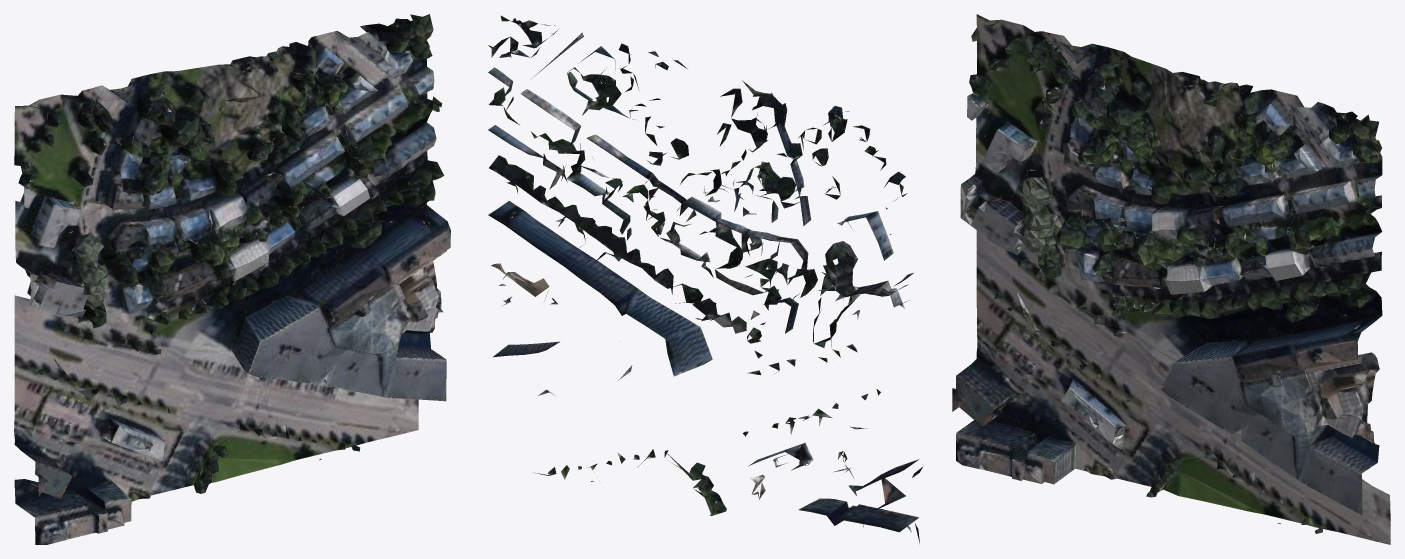
Rendered from Tile_+037_+030_L16_000.glb.
3 views of the same model, side by side, from view 1: azimuth 30°, elevation 25°; view 2: azimuth 150°, elevation 25°; view 3: azimuth 330°, elevation 25° (orthographic). The views are drawn at different scales.
Bounding box in the file's own units: 250 × 250 × 40.46.
1 material, 1 textured.
